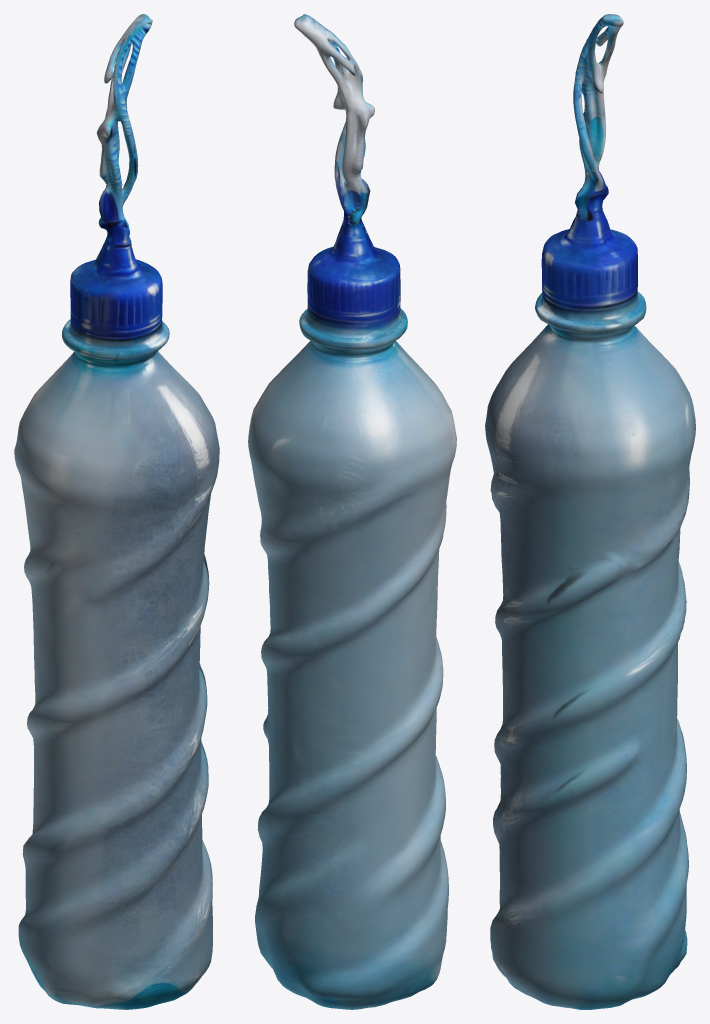
File: cleaning_and_rinsing__1226144757_texture.fbx
The picture shows the model from 3 angles, left to right: view 1: azimuth 30°, elevation 25°; view 2: azimuth 150°, elevation 25°; view 3: azimuth 270°, elevation 25°; orthographic projection. The views are drawn at different scales.
Visible parts, largest first — view 1: Mesh1_Mesh1.025; view 2: Mesh1_Mesh1.025; view 3: Mesh1_Mesh1.025.
Part boxes in pixels (x1,y1,x2,y2): Mesh1_Mesh1.025: (14, 14, 219, 1009); Mesh1_Mesh1.025: (248, 14, 456, 1009); Mesh1_Mesh1.025: (485, 14, 695, 1009).
Size of the model in its own units: 38.92 by 199 by 38.53.
1 material, 1 textured.
